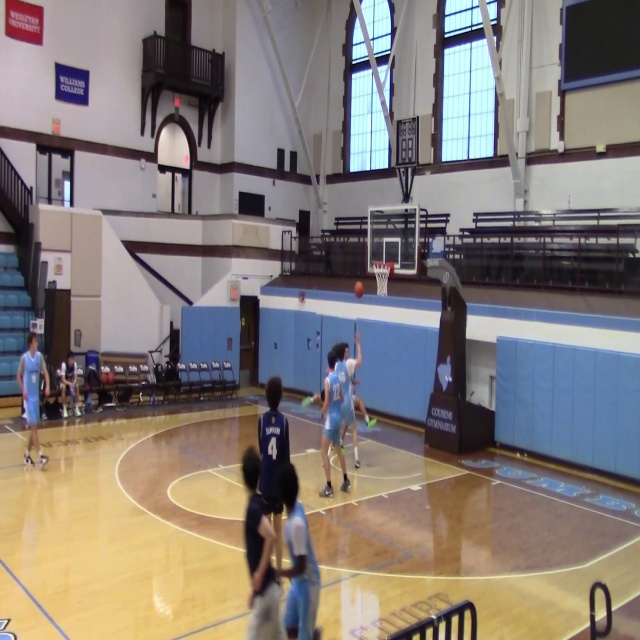Basketball: (354, 281, 364, 298)
